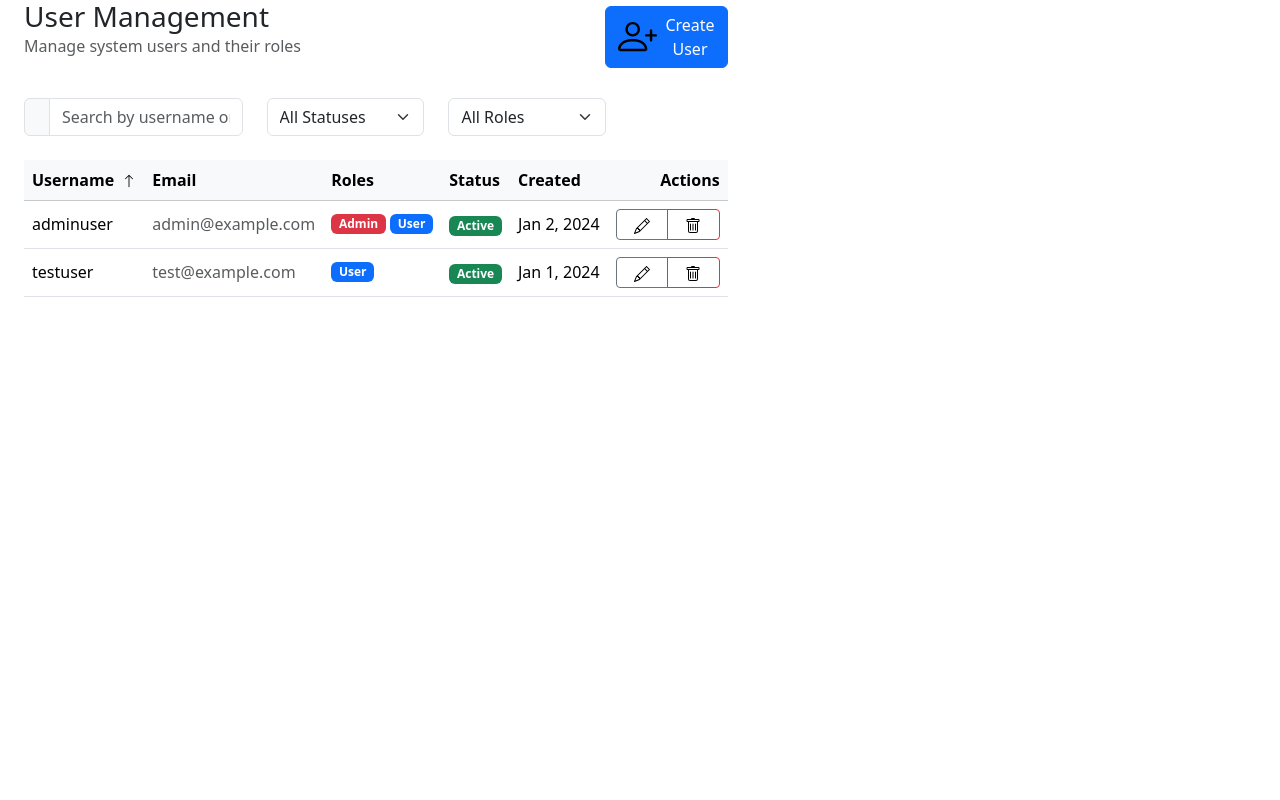
Test: UserManagementPage Integration Tests › Edit User Flow › should open edit modal when clicking edit button
Expected: the text "testuser" is shown, [32,261,93,283]
Click the button named "Edit User" in the row of "adminuser" at (642, 224), box [616,209,668,240]
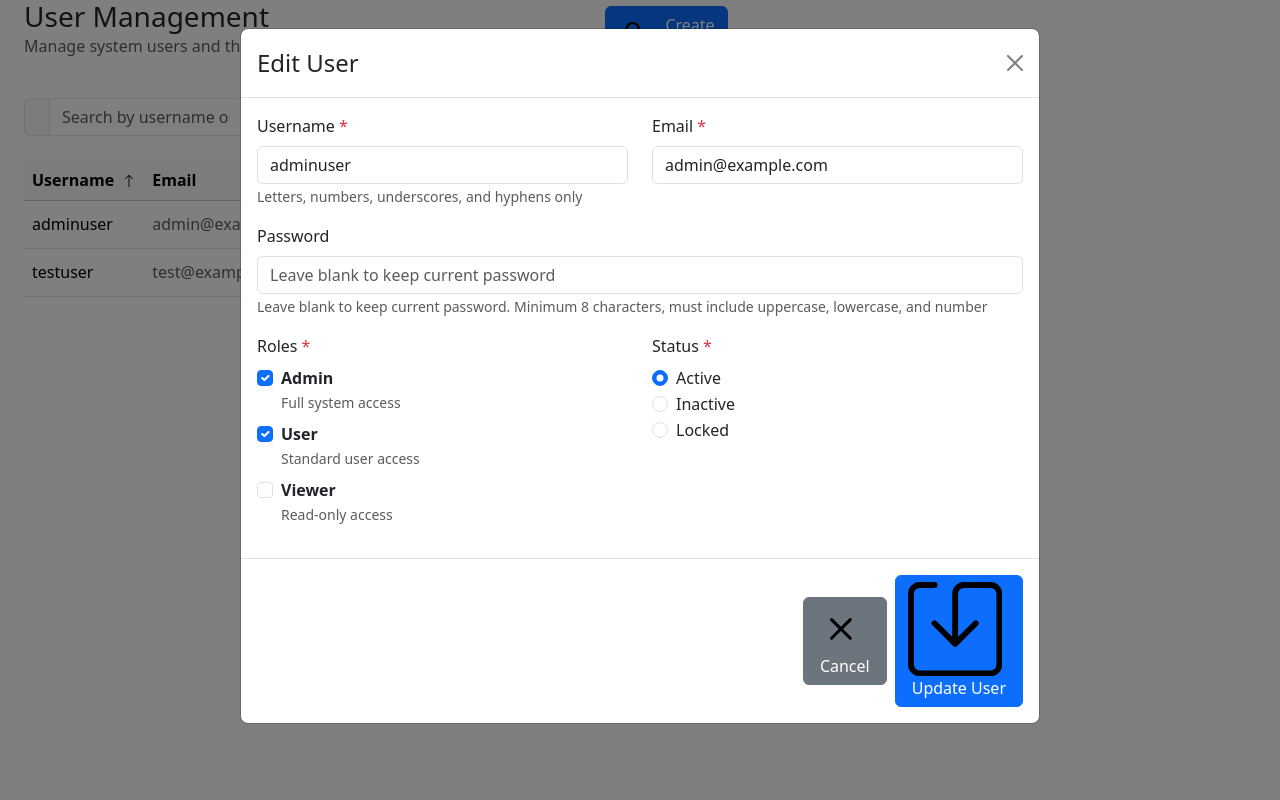
Expected: the text "Edit User" is shown, [257,45,359,81]
